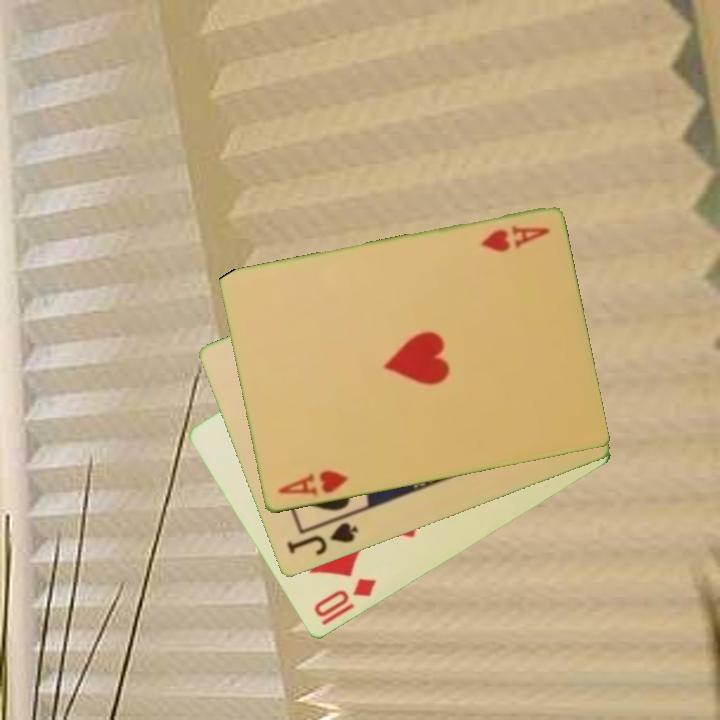10d: (310, 574, 379, 621)
Ah: (274, 467, 352, 500), (477, 223, 552, 255)
Js: (283, 519, 361, 559)
